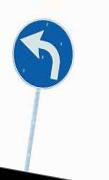left: (11, 18, 73, 89)
